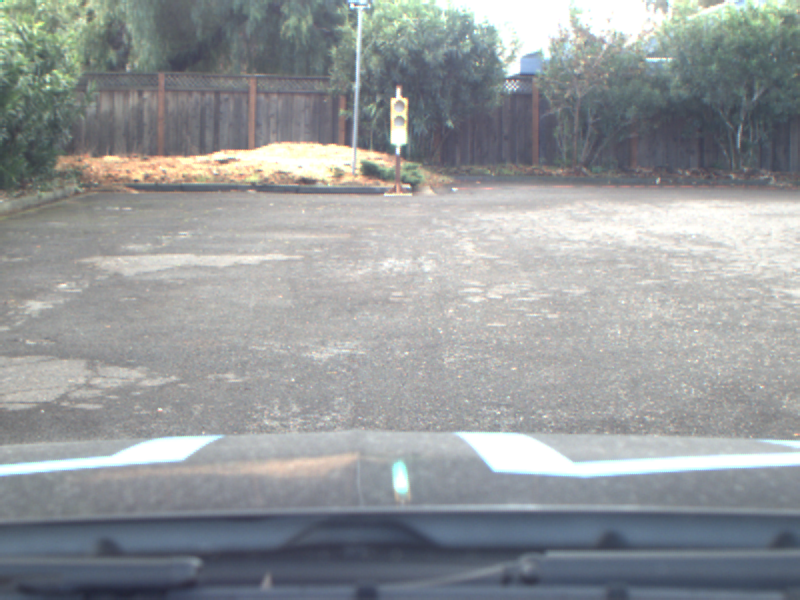Green: (389, 96, 410, 147)
